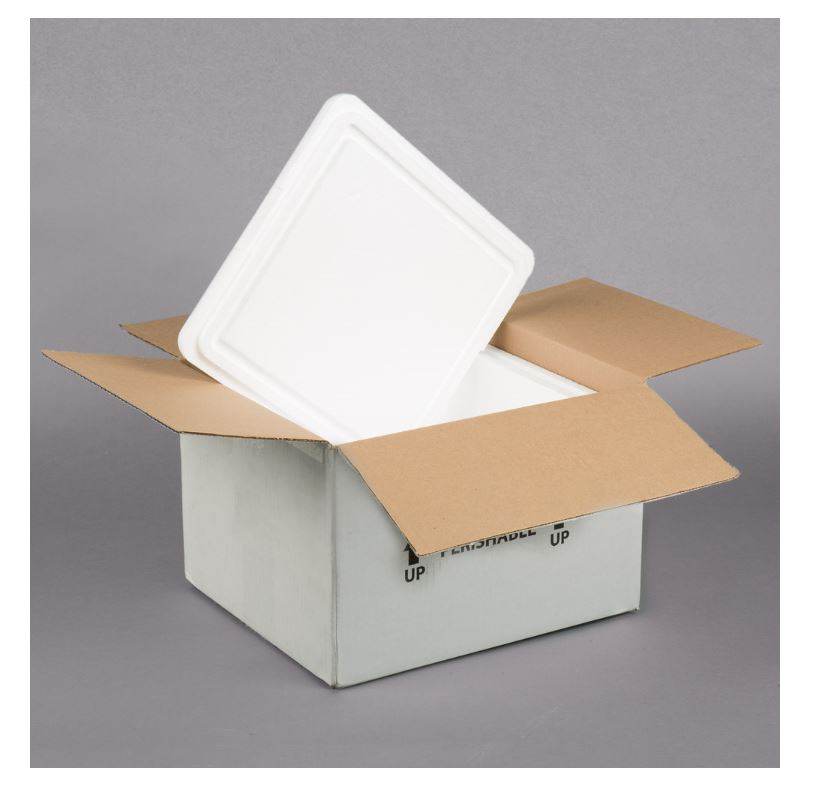泡沫箱: (178, 95, 585, 445)
